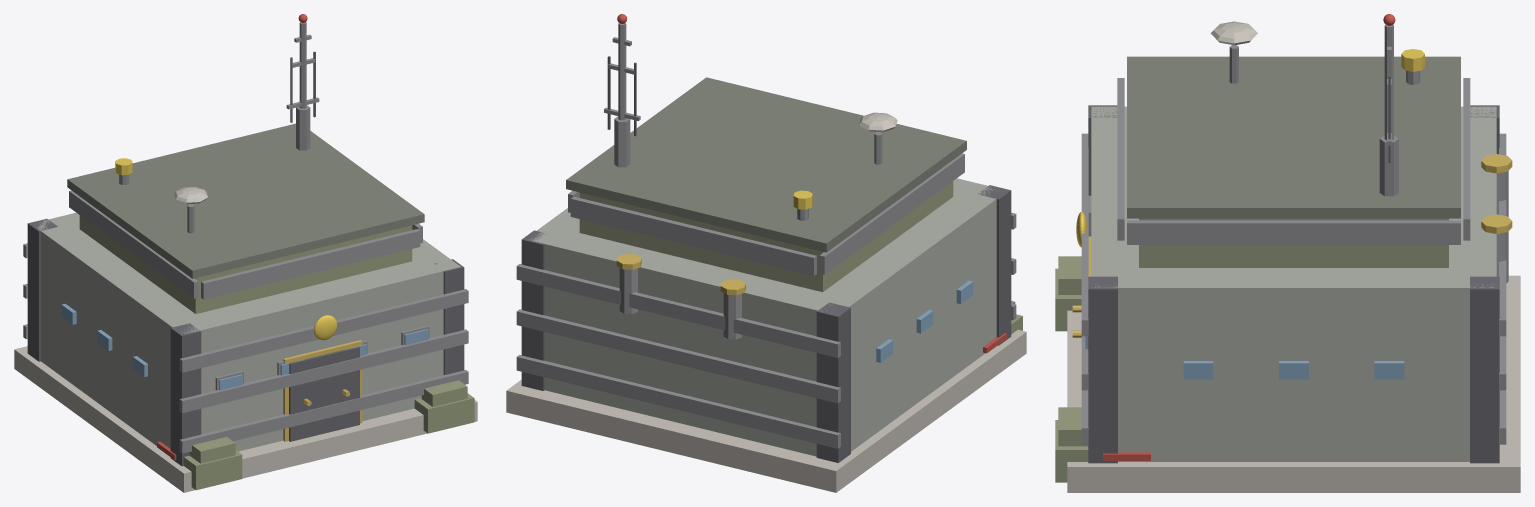
The model's file is headquarters.glb.
3 renders of one model, left to right at view 1: azimuth 30°, elevation 25°; view 2: azimuth 150°, elevation 25°; view 3: azimuth 270°, elevation 25°, orthographic. The views are drawn at different scales.
Parts seen in each view (by area): view 1: Headquarters; view 2: Headquarters; view 3: Headquarters.
Boxes of the visible parts, x1,y1,x2,y2 form: Headquarters: (14,14,477,492); Headquarters: (506,14,1026,492); Headquarters: (1055,14,1520,492).
Bounding box in the file's own units: 3.8 × 4.1 × 3.9.
